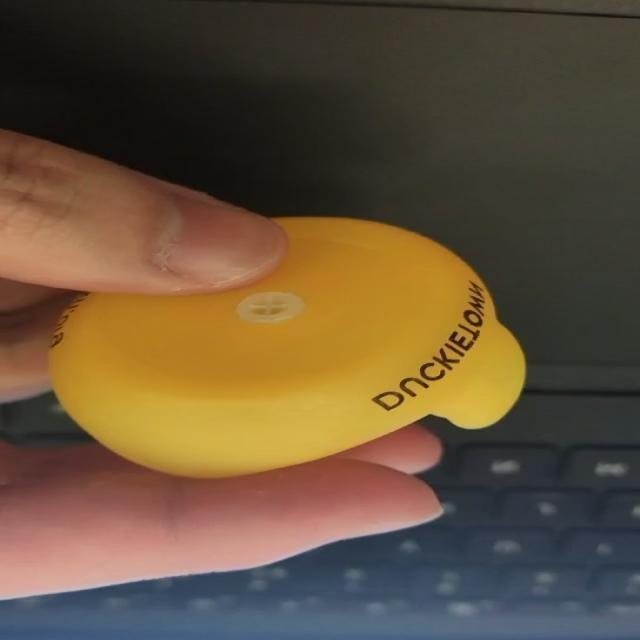rubber-duck: (48, 216, 523, 475)
